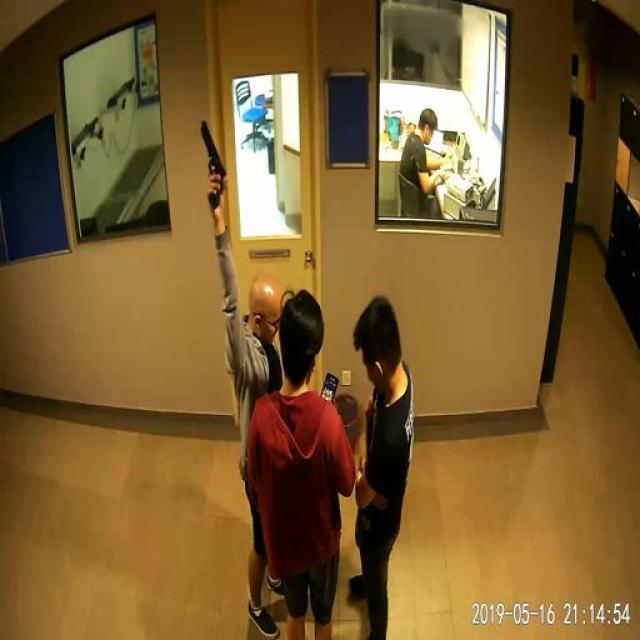Gun: (181, 117, 238, 209)
